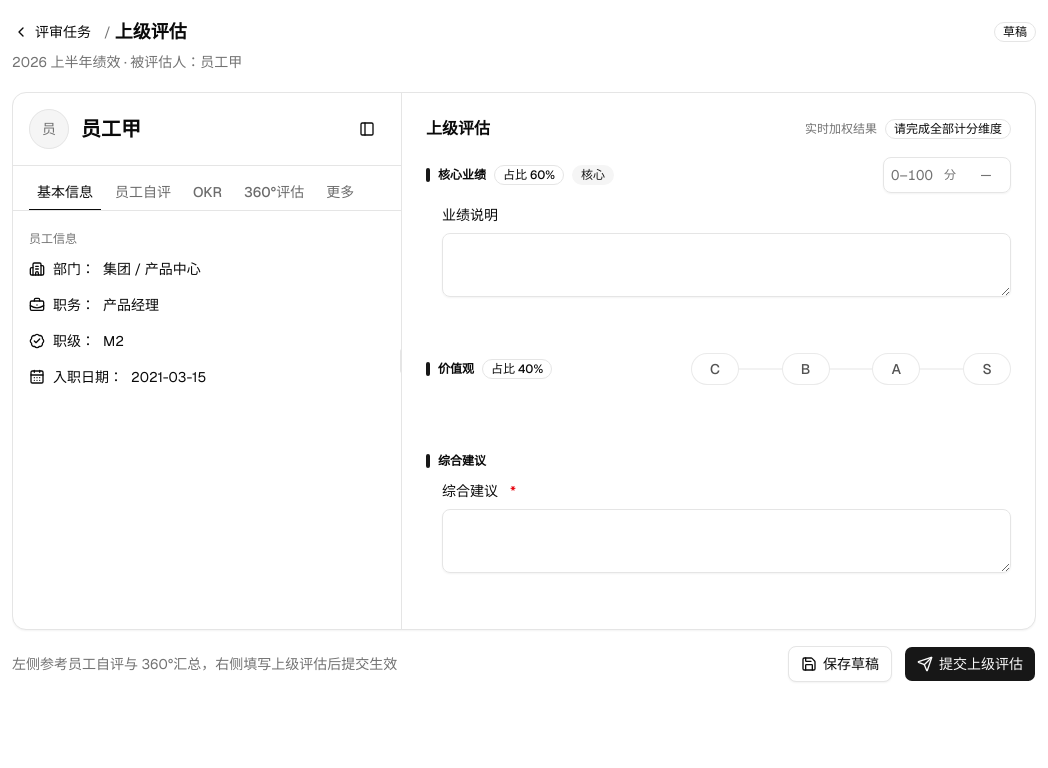
it: ManagerReviewFill 关键流程 › 历史绩效展示后端收敛后的晋升文本摘要
Click the tab "更多". click: x=340, y=192
box: [317,178,363,206]
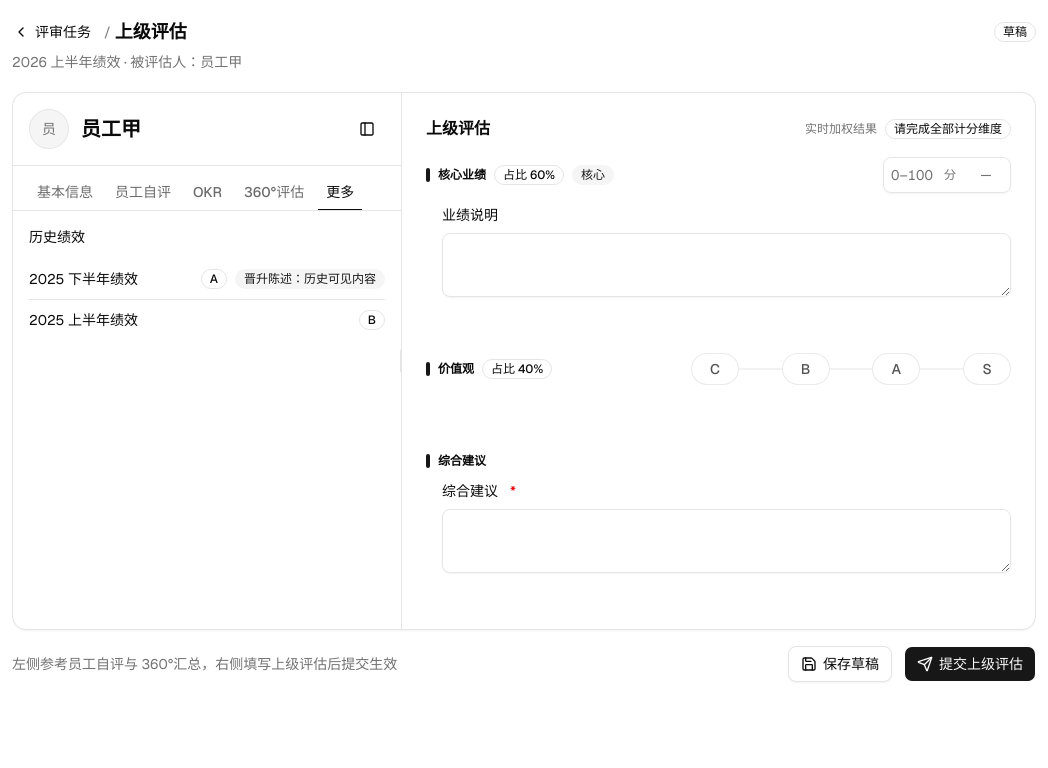
Expected: the text "晋升陈述：历史可见内容" is shown, [235,269,385,289]
Expected: the text "2025 上半年绩效" is shown, [29,310,138,330]
